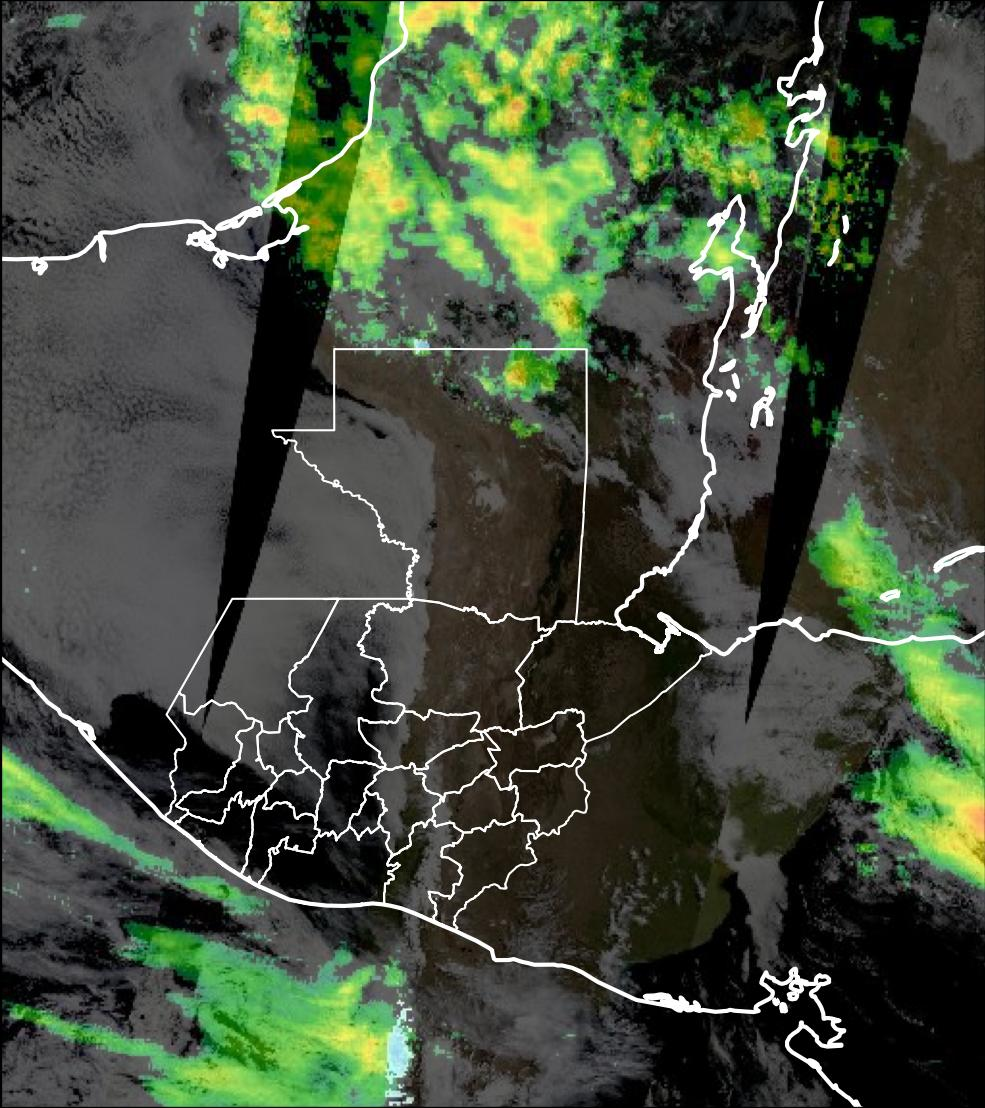precipitacion: (936, 780, 985, 868)
